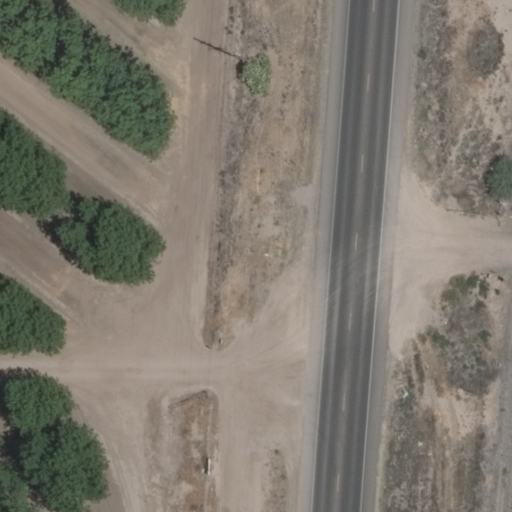DT: (234, 51, 260, 71)
